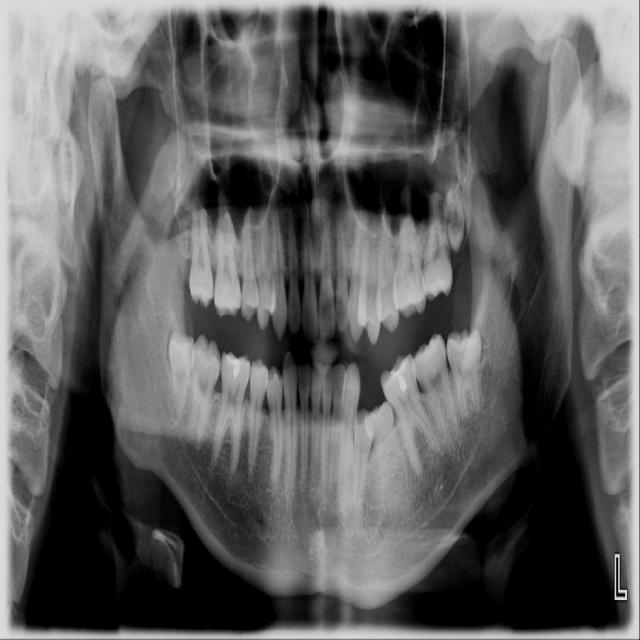Filling: (390, 364, 411, 391), (428, 274, 447, 296), (228, 353, 242, 377)
impacted tooth: (445, 330, 484, 427), (167, 333, 198, 431)
